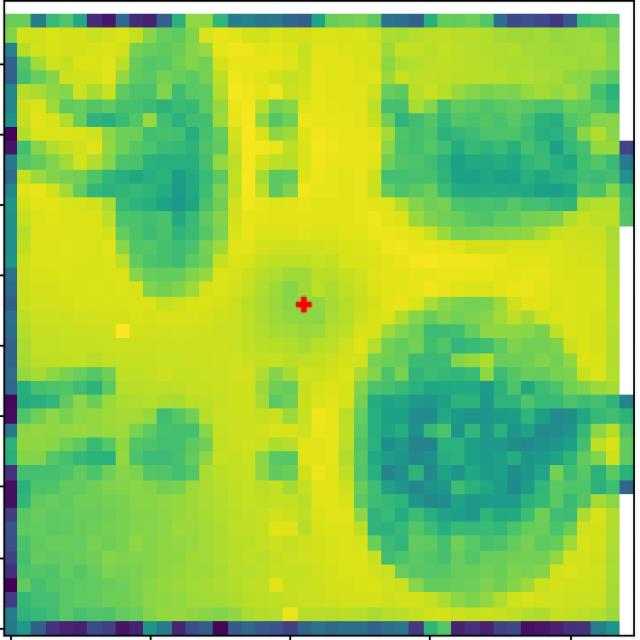Concrete: (118, 45, 228, 291)
Glass: (131, 403, 218, 487)
Metal: (409, 96, 586, 216)
Wood: (359, 312, 586, 555)
